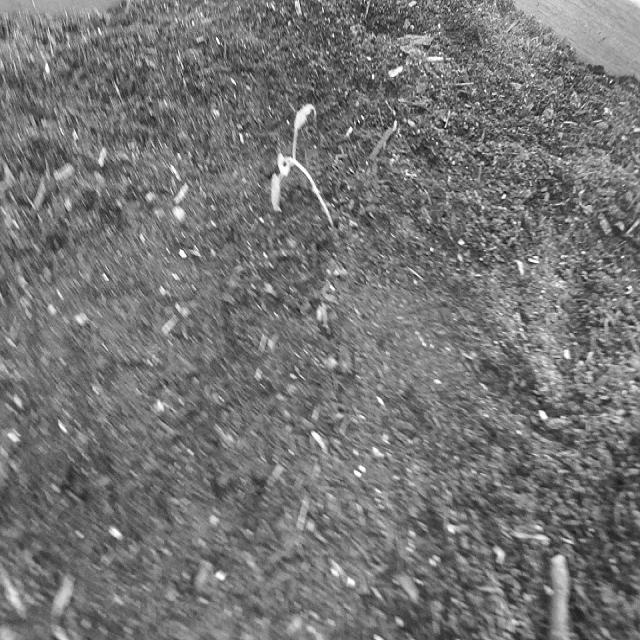Healthy: (267, 96, 338, 232)
